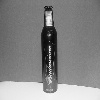beer: (37, 2, 59, 92)
